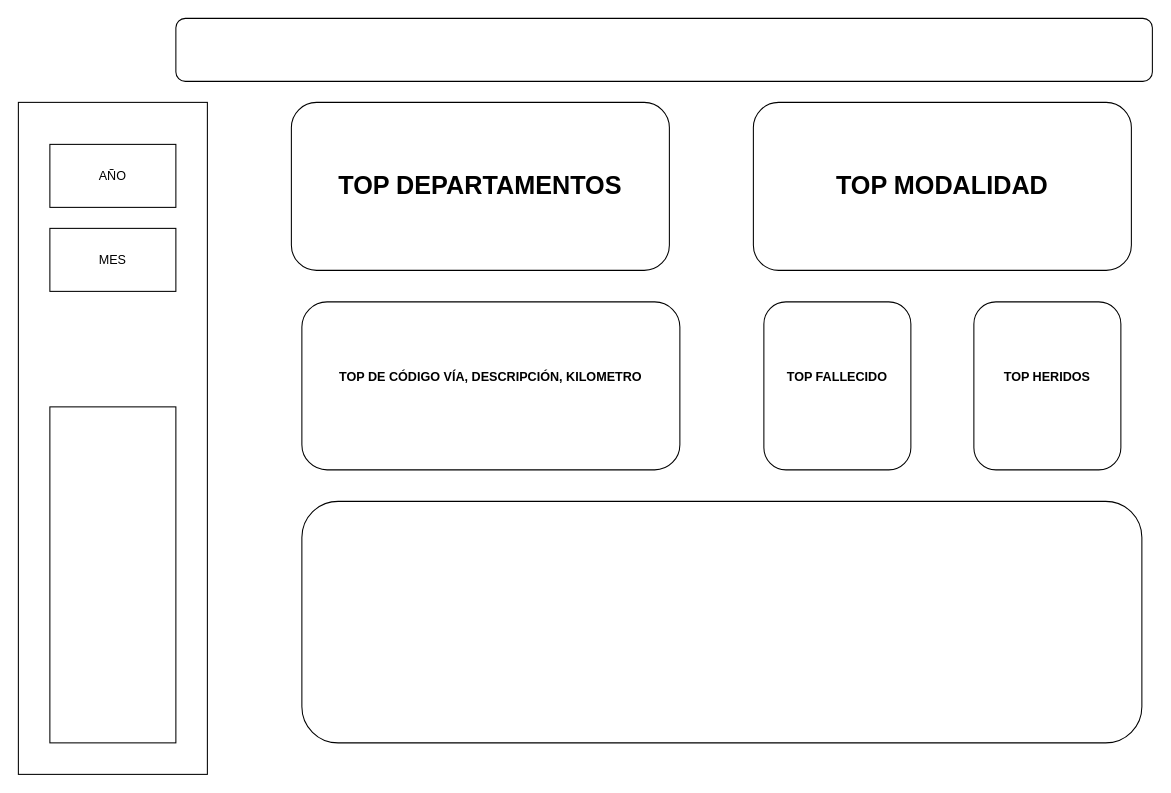
The diagram is 1171 pixels wide and 793 high, and some of its shapes have lost their labels. The box of each missing label's shape, as (x1, y1, x2, y2) in pixels:
ACCIDENTES DE TRÁNSITO EN EL PERÚ EN EL AÑO 2020 - 2021: (175, 17, 1152, 81)
FILTRO MODALIDADES: (49, 406, 176, 743)
FRECUENCIA DE HORA DE ACCIDENTE: (301, 500, 1142, 743)
